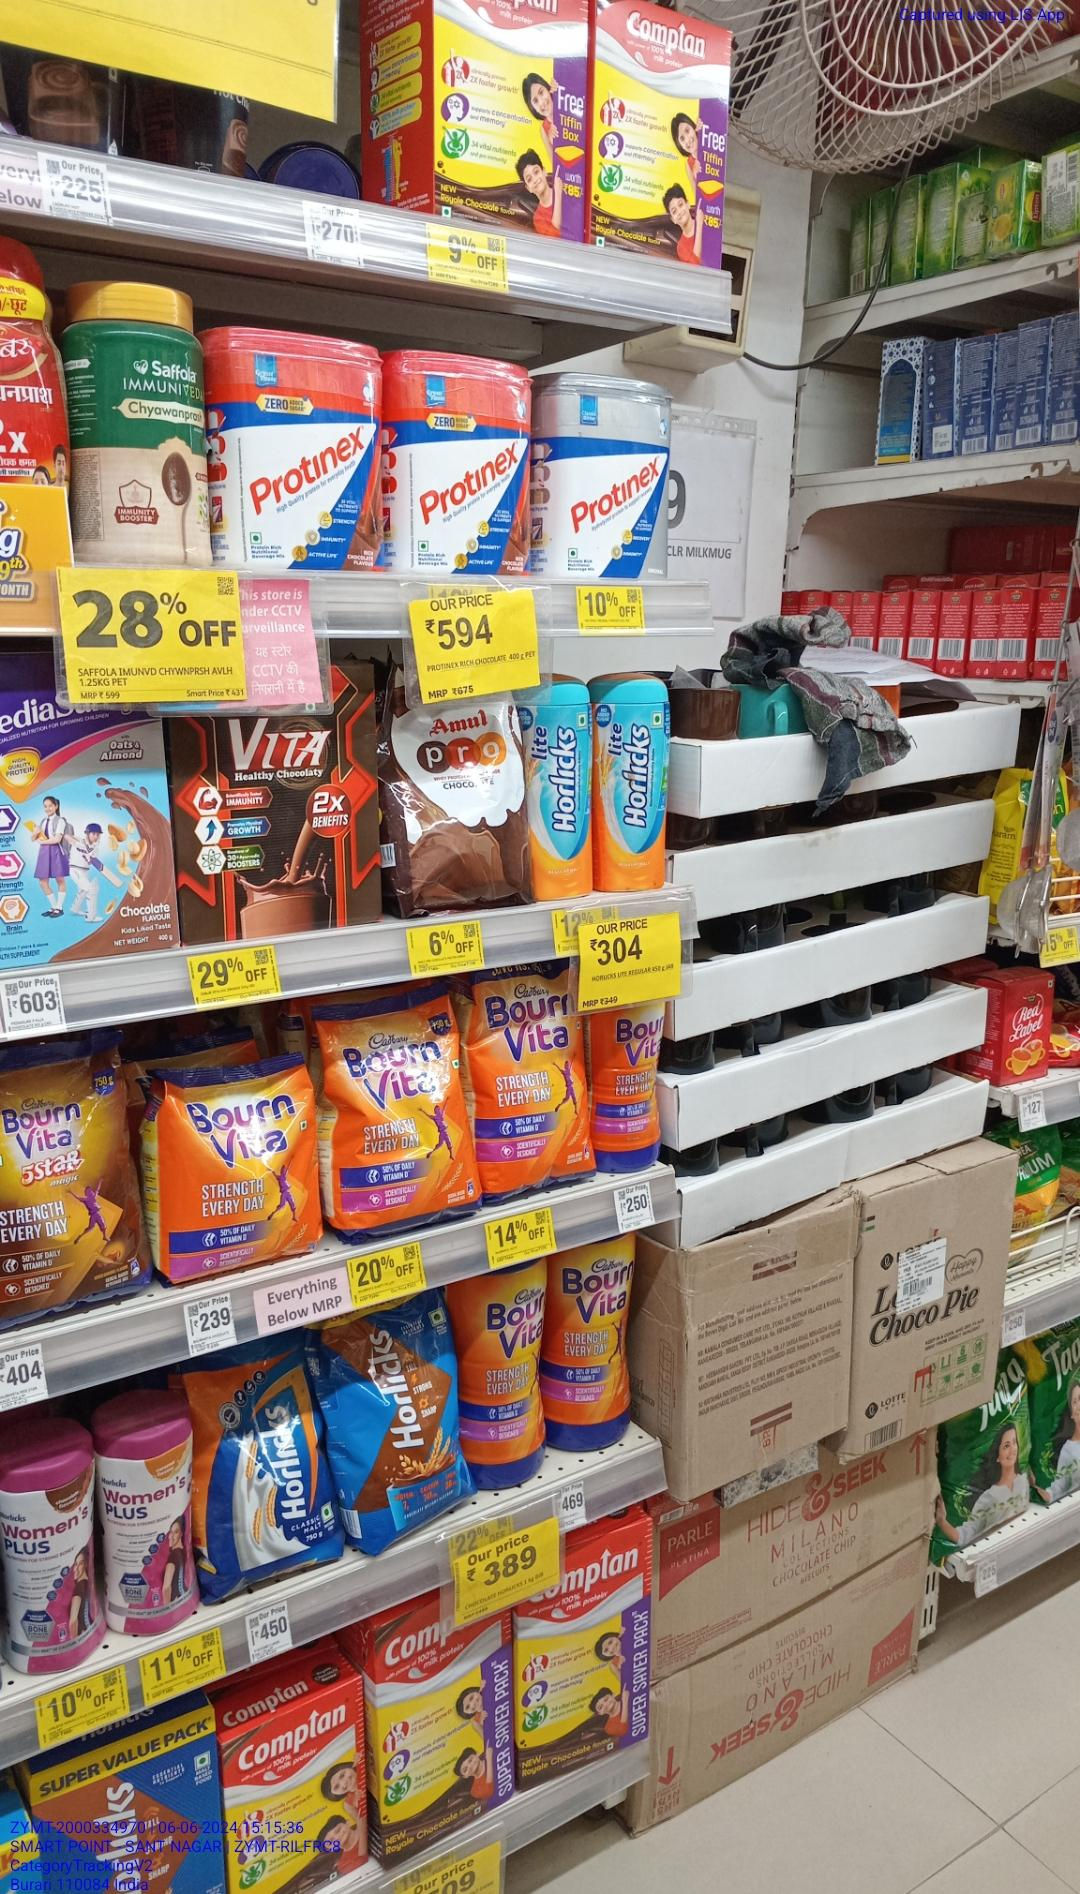BOURN_VITA_1_KG_JAR: (554, 1240, 636, 1453), (467, 1267, 544, 1486)
BOURN_VITA_1_KG_POUCH: (484, 968, 588, 1197)
BOURN_VITA_500_G_POUCH: (157, 1058, 319, 1262)
BOURN_VITA_750_G_POUCH: (327, 986, 478, 1232)
BOURN_VITA_FIVE_STAR_MAGIC_750_G_POUCH: (0, 1037, 148, 1309)
HORLICKS_LITE_REGULAR_MALT_500_GM_JAR: (523, 675, 593, 901), (600, 670, 670, 892)
HORLICK_CHOCOLATE_750_G_POUCH: (346, 1302, 461, 1539)
HORLICK_CLASSIC_MALT_750_G_POUCH: (196, 1348, 340, 1583)
PEDIASURE_7_PLUS_CHOCOLATE_400_G_PACK: (0, 696, 170, 957)
PROTINEX_CHOCOLATE_400_G_JAR: (223, 330, 379, 568), (390, 353, 533, 574)
PROTINEX_ORIGINAL_400_G_JAR: (543, 376, 671, 581)
